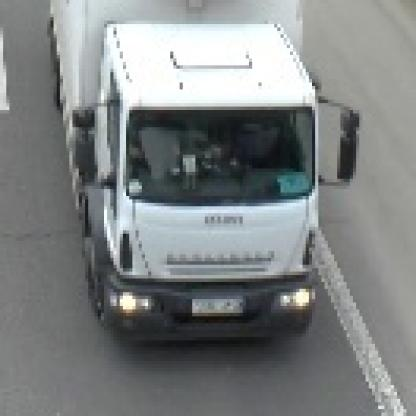truck: (45, 1, 360, 352)
